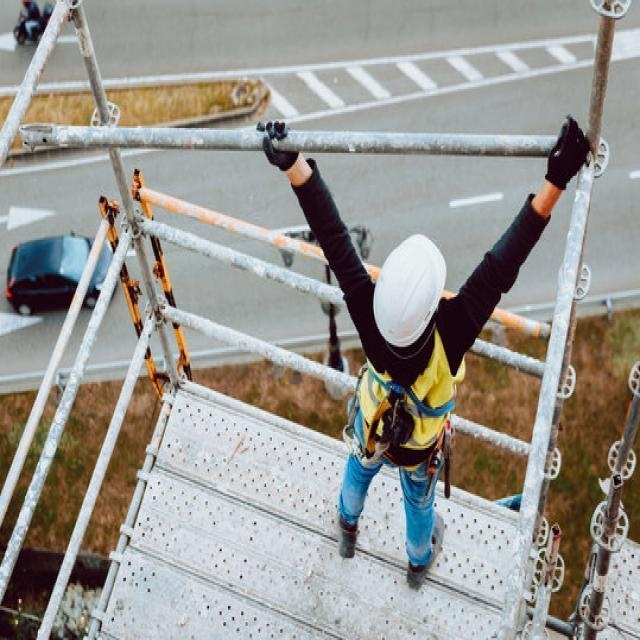Arnes_seguridad: (347, 324, 464, 471)
